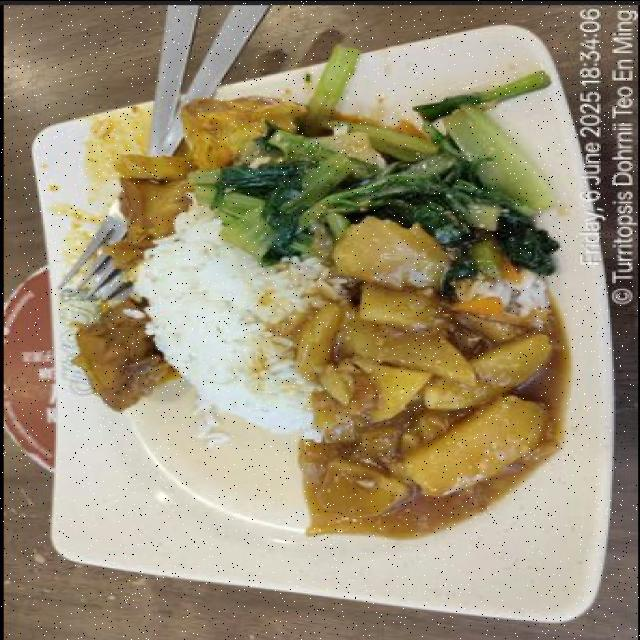Chicken: (106, 97, 304, 279), (75, 298, 177, 410)
Green veg: (190, 48, 556, 281)
Potato: (299, 219, 547, 514)
Rice: (132, 195, 351, 436), (457, 269, 549, 327)
